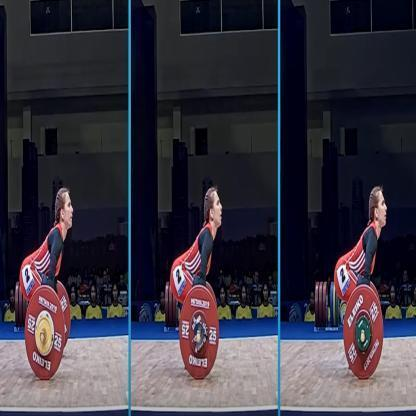barbell: (24, 278, 71, 382), (178, 281, 221, 382), (344, 284, 383, 380)
